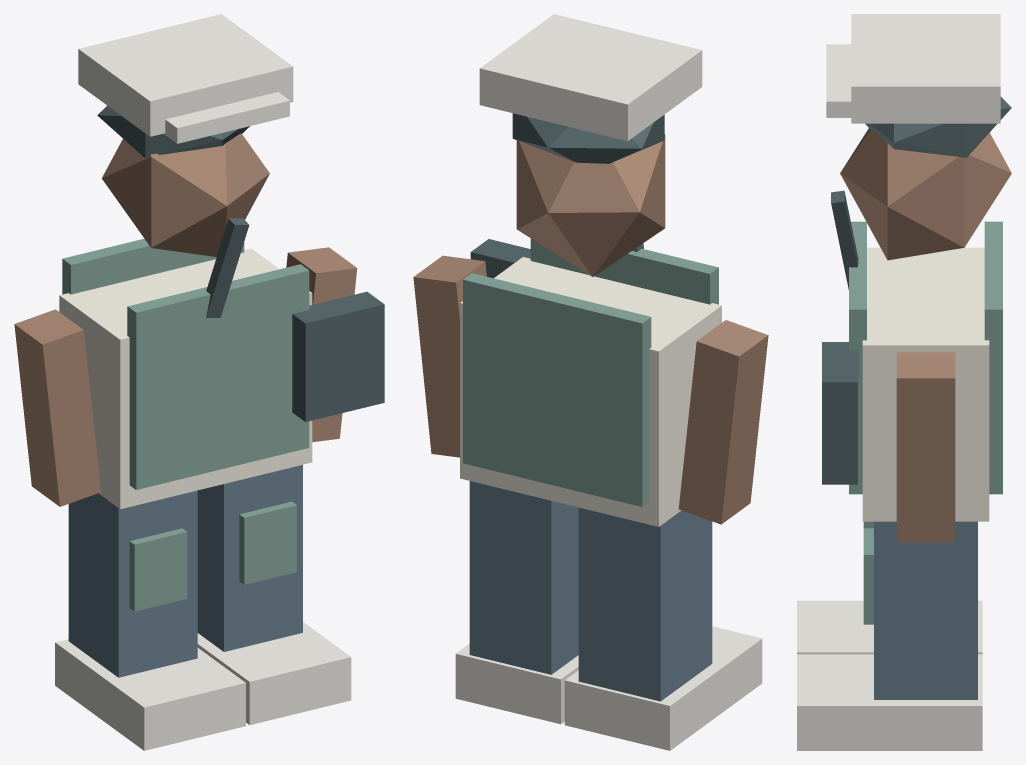
File: builders_world_stylized_builder.glb
3 views of the same model, side by side, from view 1: azimuth 30°, elevation 25°; view 2: azimuth 150°, elevation 25°; view 3: azimuth 270°, elevation 25° (orthographic). The views are drawn at different scales.
Parts seen in each view (by area): view 1: builder_vest_front, builder_cargo_leg_-0.28, builder_cap_crown, builder_tshirt, builder_cargo_leg_0.28, builder_head, builder_sneaker_-0.28, builder_arm_-0.68, builder_crossbody_bag, builder_sneaker_0.28, builder_vest_back, builder_cargo_pocket_-0.28 (+5 smaller); view 2: builder_vest_back, builder_cargo_leg_-0.28, builder_cap_crown, builder_cargo_leg_0.28, builder_tshirt, builder_head, builder_arm_-0.68, builder_sneaker_-0.28, builder_arm_0.68, builder_sneaker_0.28, builder_vest_front, builder_hair (+1 smaller); view 3: builder_tshirt, builder_cargo_leg_0.28, builder_cap_crown, builder_head, builder_sneaker_0.28, builder_arm_0.68, builder_crossbody_bag, builder_vest_back, builder_sneaker_-0.28, builder_hair, builder_vest_front, builder_cap_brim (+2 smaller).
Boxes of the visible parts, bbox=[...] form: builder_vest_front: bbox=[127, 264, 309, 489]; builder_cargo_leg_-0.28: bbox=[68, 490, 197, 677]; builder_cap_crown: bbox=[78, 14, 293, 136]; builder_tshirt: bbox=[59, 248, 312, 509]; builder_cargo_leg_0.28: bbox=[197, 465, 302, 651]; builder_head: bbox=[102, 133, 269, 256]; builder_sneaker_-0.28: bbox=[55, 639, 245, 750]; builder_arm_-0.68: bbox=[14, 309, 100, 506]; builder_crossbody_bag: bbox=[292, 291, 384, 421]; builder_sneaker_0.28: bbox=[197, 622, 351, 724]; builder_vest_back: bbox=[62, 238, 244, 294]; builder_cargo_pocket_-0.28: bbox=[129, 528, 187, 611]; builder_vest_back: bbox=[463, 273, 651, 506]; builder_cargo_leg_-0.28: bbox=[578, 507, 712, 701]; builder_cap_crown: bbox=[479, 14, 702, 141]; builder_cargo_leg_0.28: bbox=[469, 481, 578, 674]; builder_tshirt: bbox=[460, 257, 721, 526]; builder_head: bbox=[516, 134, 665, 276]; builder_arm_-0.68: bbox=[678, 320, 768, 524]; builder_sneaker_-0.28: bbox=[564, 626, 762, 750]; builder_arm_0.68: bbox=[413, 255, 486, 457]; builder_sneaker_0.28: bbox=[455, 643, 578, 724]; builder_vest_front: bbox=[530, 238, 718, 304]; builder_hair: bbox=[512, 113, 664, 163]; builder_tshirt: bbox=[862, 247, 989, 521]; builder_cargo_leg_0.28: bbox=[874, 521, 977, 699]; builder_cap_crown: bbox=[851, 14, 1000, 123]; builder_head: bbox=[840, 128, 1011, 260]; builder_sneaker_0.28: bbox=[797, 654, 982, 750]; builder_arm_0.68: bbox=[896, 352, 955, 542]; builder_crossbody_bag: bbox=[822, 342, 857, 484]; builder_vest_back: bbox=[984, 221, 1002, 494]; builder_sneaker_-0.28: bbox=[797, 600, 982, 654]; builder_hair: bbox=[865, 96, 1011, 157]; builder_vest_front: bbox=[849, 221, 866, 494]; builder_cap_brim: bbox=[826, 44, 851, 117].
Size of what is drawn, in the model's own units: 1.67 by 3.16 by 0.95.
